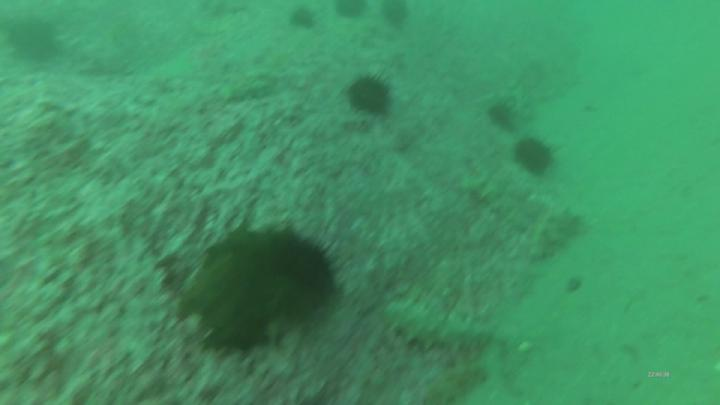echinus: (250, 227, 340, 316), (3, 16, 61, 66), (344, 71, 394, 119), (512, 136, 559, 175), (483, 101, 517, 132), (378, 1, 412, 31), (288, 6, 316, 33), (334, 1, 369, 21)
holothurian: (383, 296, 497, 361), (462, 172, 540, 232), (400, 364, 490, 405), (528, 205, 587, 264)
